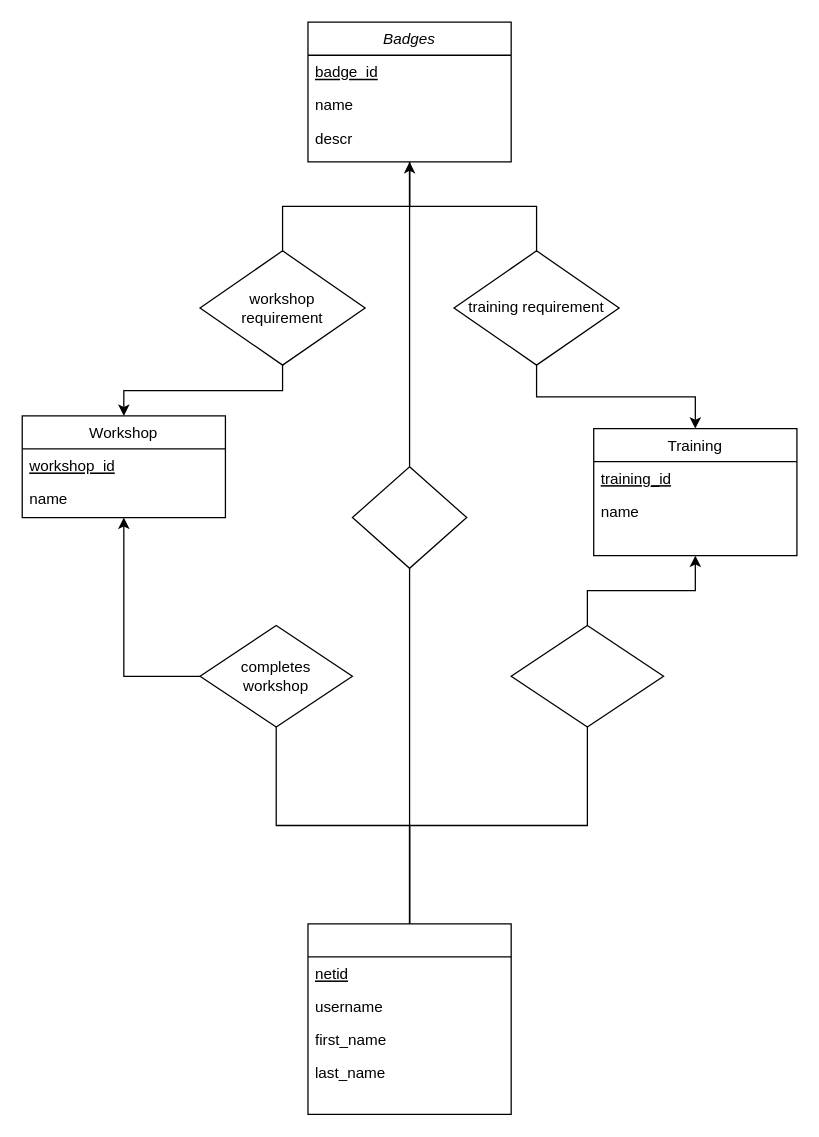
The diagram is 819 pixels wide and 1137 high, and some of its shapes have lost their labels. Here are the shapes that lost their labels. From the top down, the box of each, then its label:
(351, 465, 467, 568): owns
(510, 624, 664, 727): completes training
(307, 923, 511, 1114): Student
